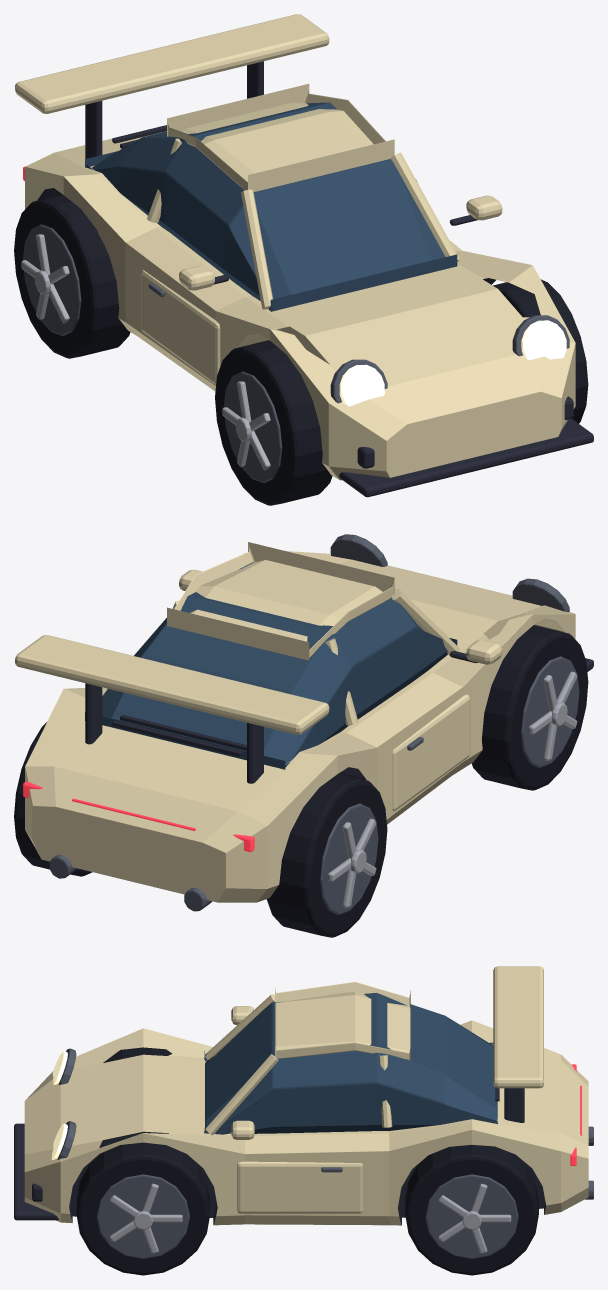
The model's file is porsche.glb.
3 renders of one model, top to bottom at view 1: azimuth 30°, elevation 25°; view 2: azimuth 150°, elevation 25°; view 3: azimuth 270°, elevation 25°, orthographic. The views are drawn at different scales.
Parts seen in each view (by area): view 1: ivory_body, blue_glasshouse, curved_roof, rear_wing, tire_front_left, tire_rear_left, door_panel, front_splitter, rim_recess, rim_recess.002, tire_front_right, A_pillar (+8 smaller); view 2: ivory_body, blue_glasshouse, curved_roof, rear_wing, tire_rear_left, tire_front_left, door_panel, rim_recess, rim_recess.002, tire_rear_right, round_headlight.001, round_headlight (+6 smaller); view 3: ivory_body, blue_glasshouse, tire_front_right, tire_rear_right, curved_roof, door_panel.001, rear_wing, rim_recess.003, rim_recess.001, front_splitter, A_pillar.001, wing_stanchion.001 (+3 smaller).
Part boxes in pixels (left/top/right/bottom): ivory_body: left=25, top=131, right=575, bottom=480; blue_glasshouse: left=85, top=102, right=457, bottom=311; curved_roof: left=167, top=84, right=394, bottom=191; rear_wing: left=15, top=14, right=329, bottom=113; tire_front_left: left=215, top=340, right=332, bottom=505; tire_rear_left: left=14, top=194, right=130, bottom=358; door_panel: left=141, top=270, right=220, bottom=384; front_splitter: left=339, top=418, right=593, bottom=497; rim_recess: left=224, top=371, right=282, bottom=482; rim_recess.002: left=23, top=224, right=81, bottom=335; tire_front_right: left=493, top=279, right=588, bottom=423; A_pillar: left=241, top=189, right=272, bottom=309; ivory_body: left=25, top=551, right=575, bottom=902; blue_glasshouse: left=85, top=562, right=457, bottom=769; curved_roof: left=167, top=542, right=394, bottom=660; rear_wing: left=15, top=635, right=329, bottom=734; tire_rear_left: left=266, top=773, right=387, bottom=937; tire_front_left: left=471, top=625, right=588, bottom=790; door_panel: left=392, top=694, right=470, bottom=811; rim_recess: left=521, top=656, right=579, bottom=767; rim_recess.002: left=320, top=803, right=378, bottom=914; tire_rear_right: left=14, top=722, right=92, bottom=876; round_headlight.001: left=330, top=534, right=387, bottom=566; round_headlight: left=512, top=578, right=569, bottom=611; ivory_body: left=24, top=1020, right=588, bottom=1225; blue_glasshouse: left=204, top=993, right=497, bottom=1134; tire_front_right: left=76, top=1142, right=209, bottom=1275; tire_rear_right: left=405, top=1145, right=538, bottom=1275; curved_roof: left=275, top=982, right=410, bottom=1060; door_panel.001: left=237, top=1161, right=363, bottom=1213; rear_wing: left=493, top=966, right=543, bottom=1088; rim_recess.003: left=425, top=1174, right=518, bottom=1258; rim_recess.001: left=96, top=1174, right=189, bottom=1259; front_splitter: left=14, top=1123, right=58, bottom=1220; A_pillar.001: left=205, top=1054, right=278, bottom=1135; wing_stanchion.001: left=504, top=1088, right=524, bottom=1122.
Size of the model in its own units: 1.43 by 1.07 by 2.73.
